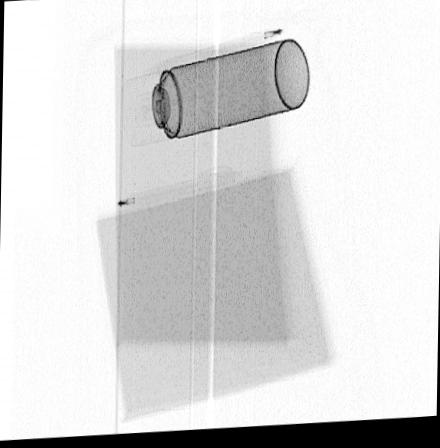Sprayer: (121, 41, 309, 147)
